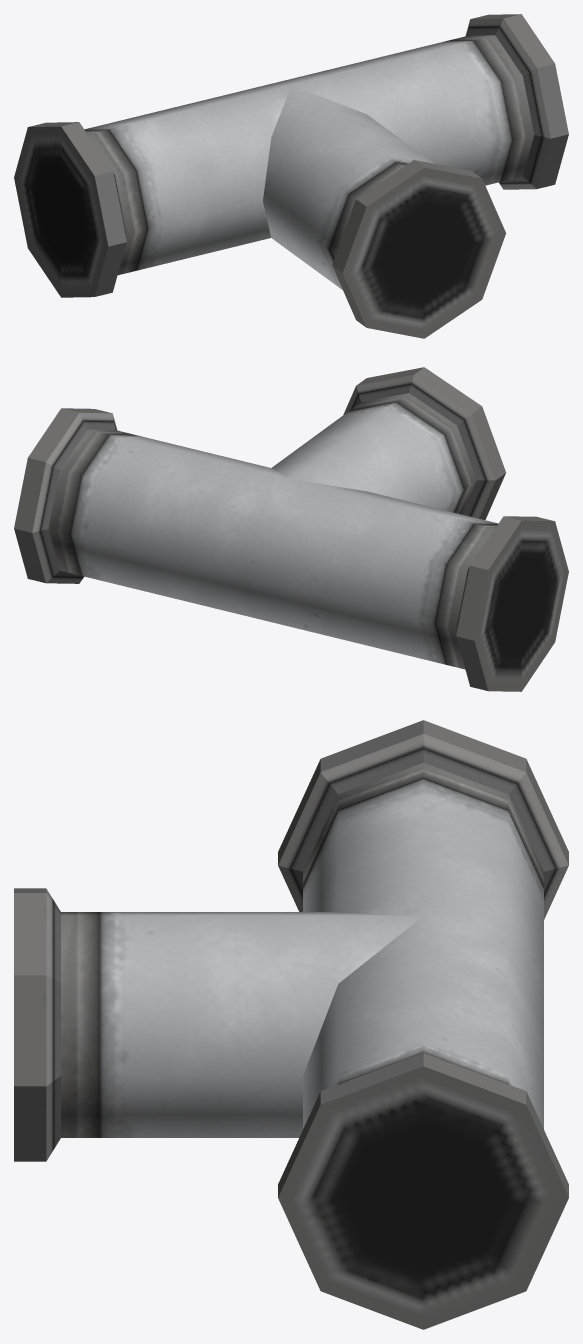
Rendered from pipe_T.glb.
3 renders of one model, top to bottom at view 1: azimuth 30°, elevation 25°; view 2: azimuth 150°, elevation 25°; view 3: azimuth 270°, elevation 25°, orthographic. The views are drawn at different scales.
Visible parts, largest first — view 1: zhuti.II.003; view 2: zhuti.II.003; view 3: zhuti.II.003.
Boxes of the visible parts, x1,y1,x2,y2 form: zhuti.II.003: (14,14,568,338); zhuti.II.003: (14,367,568,691); zhuti.II.003: (14,720,568,1329).
Size of the model in its own units: 10 by 3.55 by 6.78.
1 material, 1 textured.
